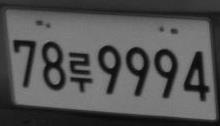4: (182, 50, 210, 102)
7: (12, 38, 36, 87)
8: (41, 40, 65, 90)
9: (124, 45, 150, 97), (96, 44, 122, 94), (153, 47, 178, 99)
루: (68, 51, 93, 93)
